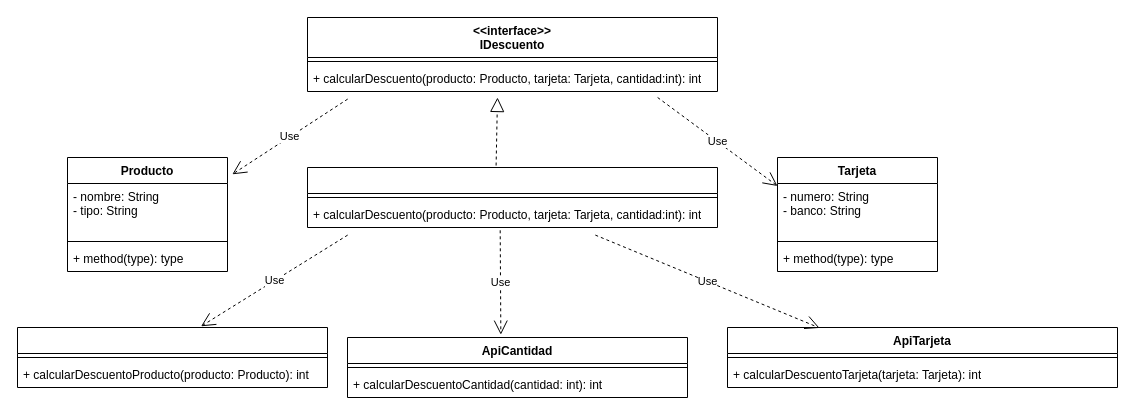
Some shapes in this 1135 by 418 pixel diagram are drawn without their labels. Each missing label, with the box of its shape:
ApiProducto: (16, 326, 328, 388)
FachadaDescuento: (306, 166, 718, 228)
